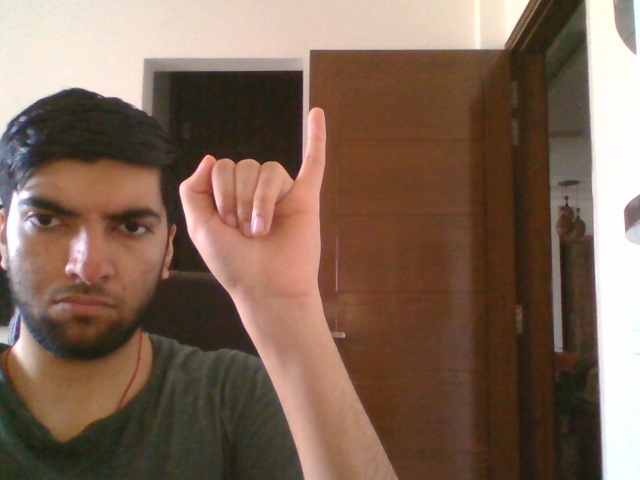LetterI: (179, 106, 327, 294)
